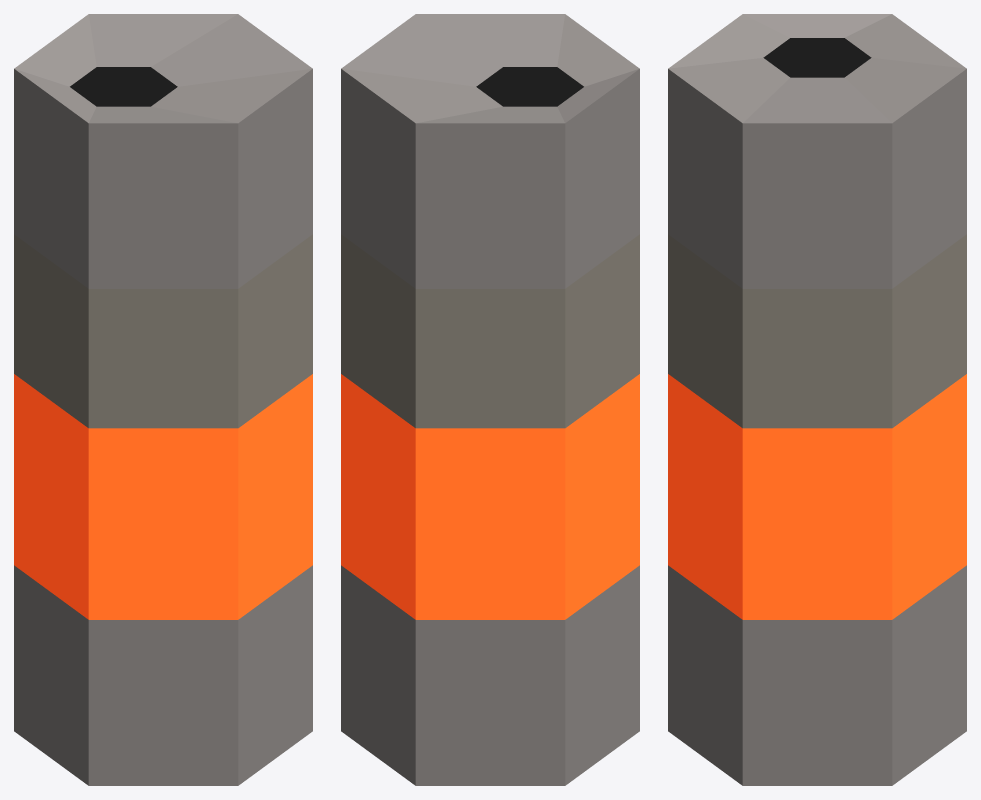
The model's file is scifi_scifi-drink.fbx.
3 views of the same model, side by side, from view 1: azimuth 30°, elevation 25°; view 2: azimuth 150°, elevation 25°; view 3: azimuth 270°, elevation 25° (orthographic).
Visible parts, largest first — view 1: scifi_scifi_drink; view 2: scifi_scifi_drink; view 3: scifi_scifi_drink.
Part boxes in pixels (left/top/right/bottom): scifi_scifi_drink: left=14, top=14, right=312, bottom=785; scifi_scifi_drink: left=341, top=14, right=639, bottom=785; scifi_scifi_drink: left=668, top=14, right=966, bottom=785.
Bounding box in the file's own units: 70.8 × 200 × 81.75.
